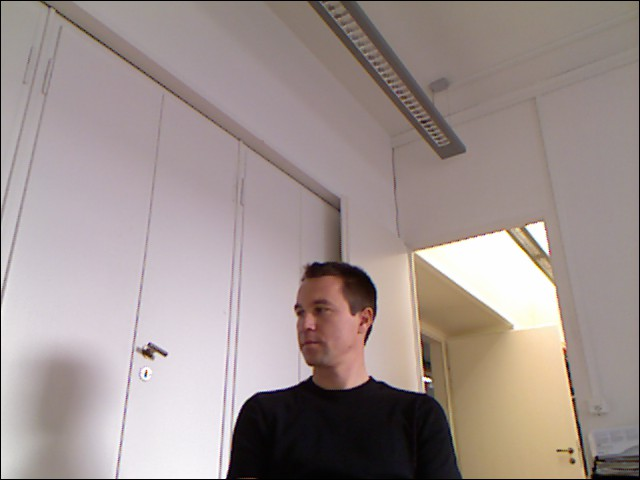deflection: (233, 267, 431, 457)
